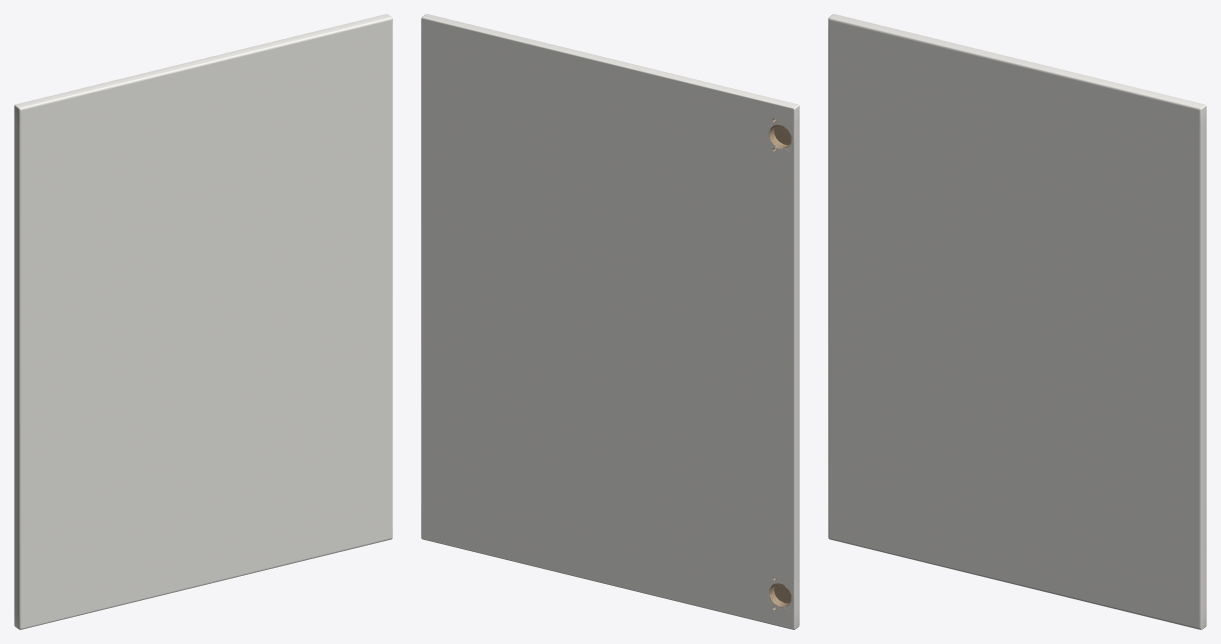
The model's file is veddinge_drzwi_20205430.glb.
3 views of the same model, side by side, from view 1: azimuth 30°, elevation 25°; view 2: azimuth 150°, elevation 25°; view 3: azimuth 330°, elevation 25° (orthographic).
Parts seen in each view (by area): view 1: veddinge_drzwi_20205430; view 2: veddinge_drzwi_20205430; view 3: veddinge_drzwi_20205430.
Boxes of the visible parts, bbox=[...] form: veddinge_drzwi_20205430: bbox=[14, 14, 392, 629]; veddinge_drzwi_20205430: bbox=[421, 14, 799, 629]; veddinge_drzwi_20205430: bbox=[828, 14, 1206, 629].
Size of the model in its own units: 0.597 by 0.797 by 0.016.
1 material, 1 textured.
